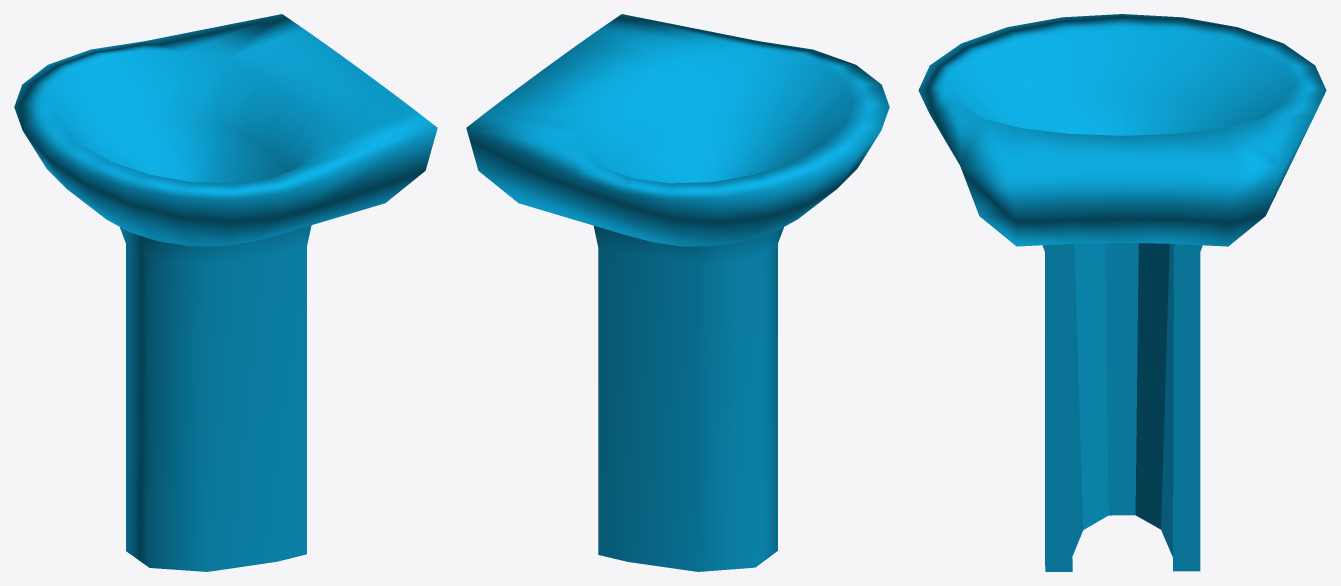
Rendered from Bathroom_Sink_01_Lod1.fbx.
3 views of the same model, side by side, from view 1: azimuth 30°, elevation 25°; view 2: azimuth 150°, elevation 25°; view 3: azimuth 270°, elevation 25° (orthographic). The views are drawn at different scales.
Visible parts, largest first — view 1: Bathroom_Sink_01_Lod1; view 2: Bathroom_Sink_01_Lod1; view 3: Bathroom_Sink_01_Lod1.
Part boxes in pixels (left/top/right/bottom): Bathroom_Sink_01_Lod1: left=14, top=14, right=437, bottom=571; Bathroom_Sink_01_Lod1: left=466, top=14, right=889, bottom=571; Bathroom_Sink_01_Lod1: left=918, top=14, right=1326, bottom=571.
Size of the model in its own units: 68.23 by 90.55 by 73.96.
